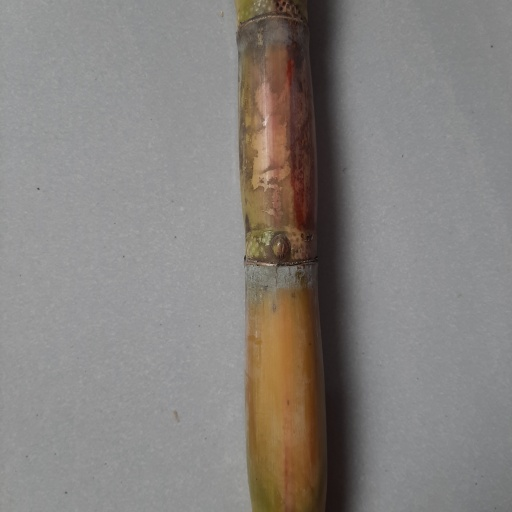Bud: (270, 233, 292, 263)
